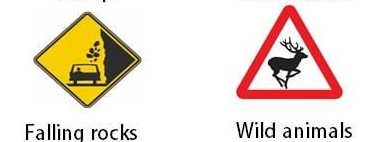Traffic signal: (33, 11, 142, 109), (236, 5, 345, 101)
